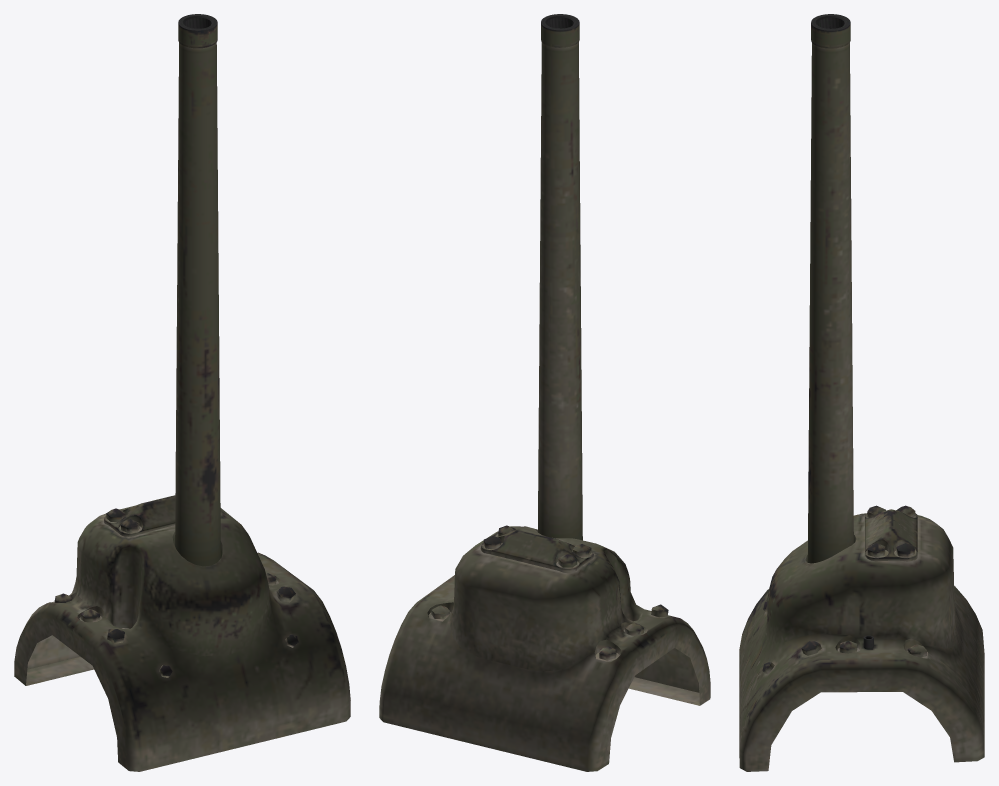
Rendered from Gun_01.glb.
3 renders of one model, left to right at view 1: azimuth 30°, elevation 25°; view 2: azimuth 150°, elevation 25°; view 3: azimuth 270°, elevation 25°, orthographic. The views are drawn at different scales.
Visible parts, largest first — view 1: set_0_group_0; view 2: set_0_group_0; view 3: set_0_group_0.
Part boxes in pixels (x1,y1,x2,y2): set_0_group_0: (14,14,350,771); set_0_group_0: (379,14,710,771); set_0_group_0: (739,14,984,771).
Bounding box in the file's own units: 0.7046 × 2.1 × 0.6718.
Materials: 1 (1 with a texture image).
